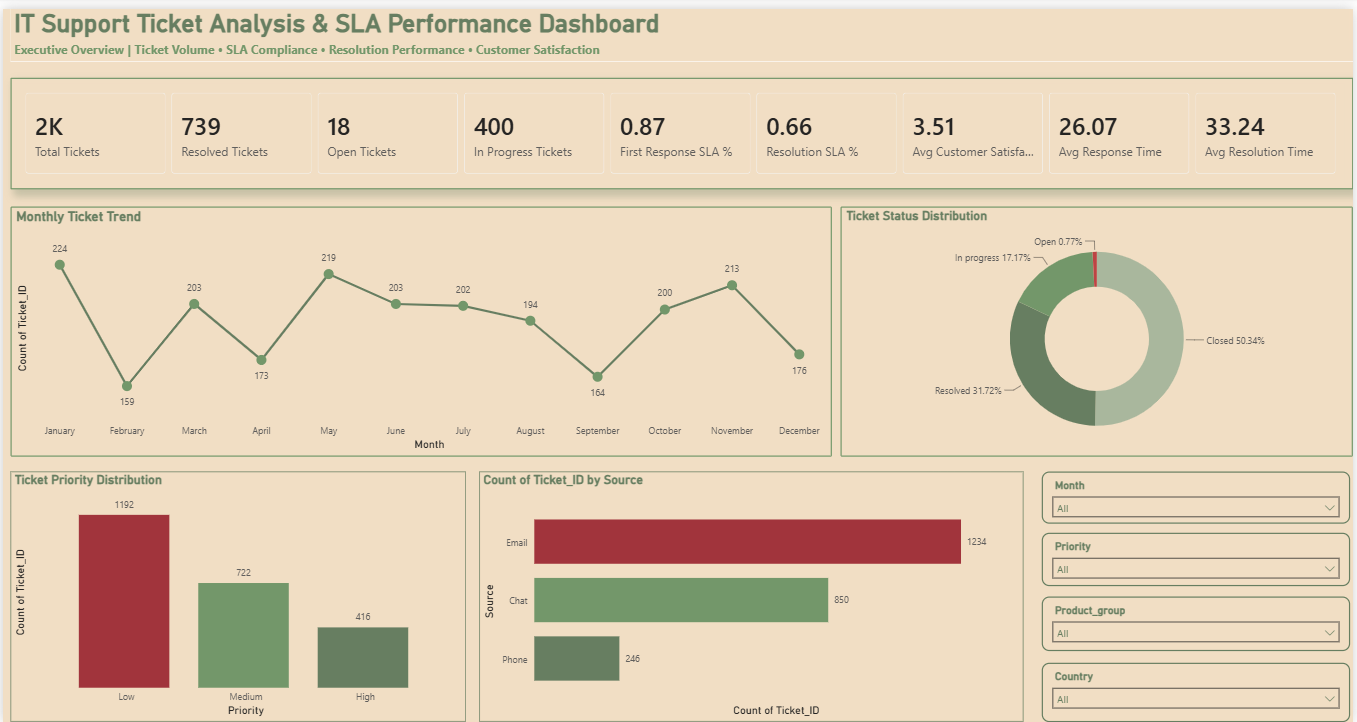

What the dashboard file says about the page in this screenshot:
{"tool":"powerbi","page":{"name":"Executive Overview","canvas":[1800,950],"ordinal":0},"visuals":[{"type":"textbox","title":"IT Support Ticket Analysis & SLA Performance Dashboard","box":[9.8,0,1790.5,70.3],"z":0},{"type":"cardVisual","fields":{"Data":["Measures (2).Total Tickets","Measures (2).Resolved Tickets","Measures (2).Open Tickets","Measures (2).In Progress Tickets","Measures (2).First Response SLA %","Measures (2).Resolution SLA %","Measures (2).Avg Customer Satisfaction","Measures (2).Avg Response Time","Measures (2).Avg Resolution Time"]},"box":[9.8,91.6,1790.5,148.8],"z":1000},{"type":"lineChart","title":"Monthly Ticket Trend","fields":{"Y":["CountNonNull(Technical_support_dataset.Ticket_ID)"],"Category":["Technical_support_dataset.Month"]},"box":[9.8,263.3,1095.6,333.6],"z":2000},{"type":"donutChart","title":"Ticket Status Distribution","fields":{"Category":["Technical_support_dataset.Status"],"Y":["Count(Technical_support_dataset.Ticket_ID)"]},"box":[1116.8,263.3,683.5,333.6],"z":3000},{"type":"columnChart","title":"Ticket Priority Distribution","fields":{"Category":["Technical_support_dataset.Priority"],"Y":["Count(Technical_support_dataset.Ticket_ID)"]},"box":[9.7,616.8,607.1,333.5],"z":4000},{"type":"clusteredBarChart","fields":{"Category":["Technical_support_dataset.Source"],"Y":["CountNonNull(Technical_support_dataset.Ticket_ID)"]},"box":[634.6,616.8,725.3,333.5],"z":5000},{"type":"slicer","fields":{"Values":["Technical_support_dataset.Month"]},"box":[1384.2,616.8,411.2,69.6],"z":6000},{"type":"slicer","fields":{"Values":["Technical_support_dataset.Priority"]},"box":[1384.2,697.8,411.2,71.2],"z":7000},{"type":"slicer","fields":{"Values":["Technical_support_dataset.Product_group"]},"box":[1384.2,783.6,411.2,72.9],"z":8000},{"type":"slicer","fields":{"Values":["Technical_support_dataset.Country"]},"box":[1384.2,871,411.2,79.3],"z":9000}]}

Visuals, with their boxes in screenshot pixels (x1, y1, x2, y2), scaled from the page's 1800x950 canvas onto the 1357x722 screenshot:
"IT Support Ticket Analysis & SLA Performance Dashboard" textbox: box(7, 0, 1356, 53)
cardVisual - Measures (2).Total Tickets x Measures (2).Resolved Tickets: box(7, 70, 1356, 183)
"Monthly Ticket Trend" lineChart: box(7, 200, 833, 454)
"Ticket Status Distribution" donutChart: box(842, 200, 1356, 454)
"Ticket Priority Distribution" columnChart: box(7, 469, 465, 721)
clusteredBarChart - Technical_support_dataset.Source x CountNonNull(Technical_support_dataset.Ticket_ID): box(478, 469, 1025, 721)
slicer - Technical_support_dataset.Month: box(1044, 469, 1354, 522)
slicer - Technical_support_dataset.Priority: box(1044, 530, 1354, 584)
slicer - Technical_support_dataset.Product_group: box(1044, 596, 1354, 651)
slicer - Technical_support_dataset.Country: box(1044, 662, 1354, 721)
